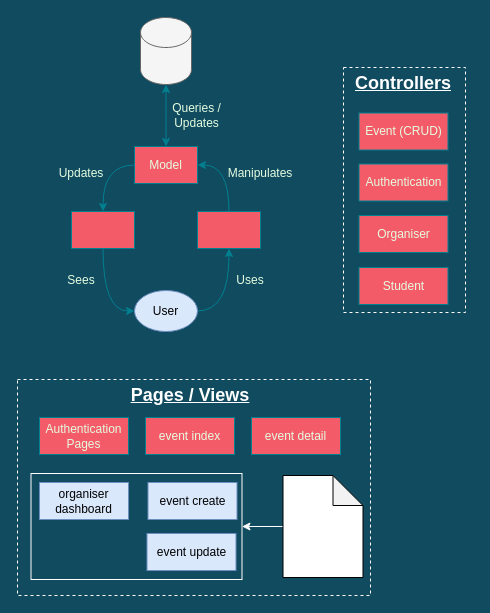
The diagram is 490 pixels wide and 613 high, and some of its shapes have lost their labels. Here are the shapes that lost their labels. From the top down, the centre of each, then its label:
pixel 166 50: DB
pixel 102 229: View
pixel 228 229: Controller
pixel 322 526: Need to be logged in
